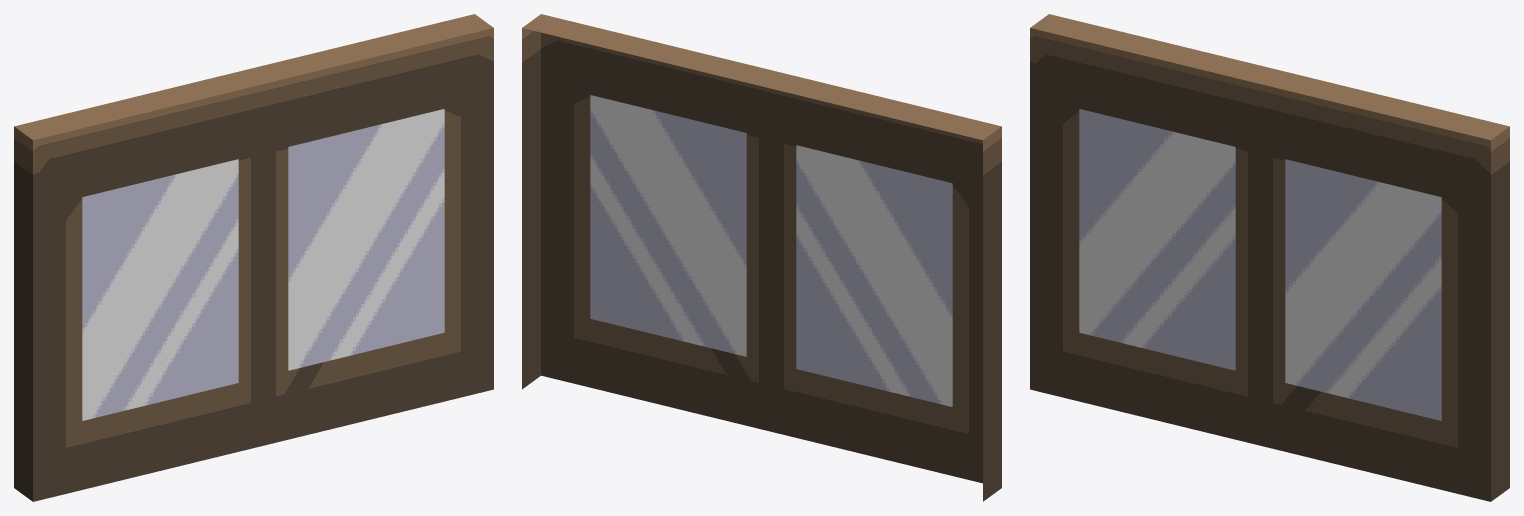
3 views of the same model, side by side, from view 1: azimuth 30°, elevation 25°; view 2: azimuth 150°, elevation 25°; view 3: azimuth 330°, elevation 25° (orthographic).
Visible parts, largest first — view 1: polygon0, polygon1; view 2: polygon0, polygon1; view 3: polygon0, polygon1.
Boxes of the visible parts, x1=… form: polygon0: x1=14, y1=14, x2=493, y2=501; polygon1: x1=82, y1=109, x2=444, y2=420; polygon0: x1=522, y1=14, x2=1001, y2=501; polygon1: x1=590, y1=95, x2=952, y2=406; polygon0: x1=1030, y1=14, x2=1509, y2=501; polygon1: x1=1079, y1=109, x2=1441, y2=420.
Bounding box in the file's own units: 3.5 × 2.62 × 0.25.
